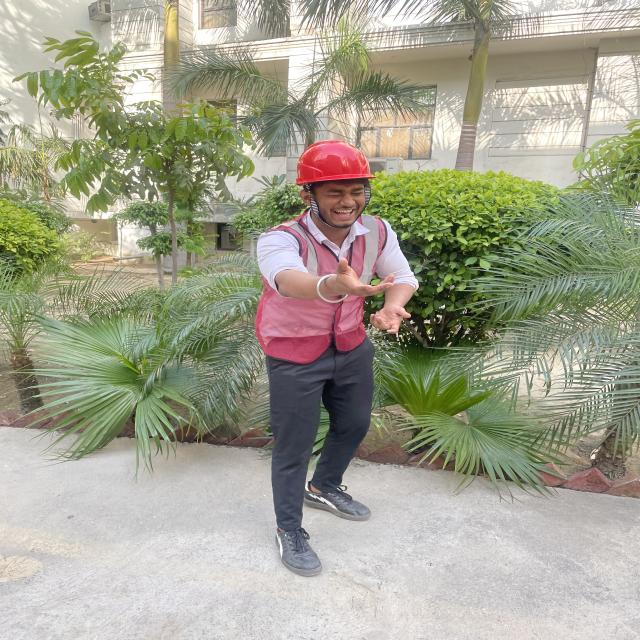safe: (258, 142, 418, 575)
